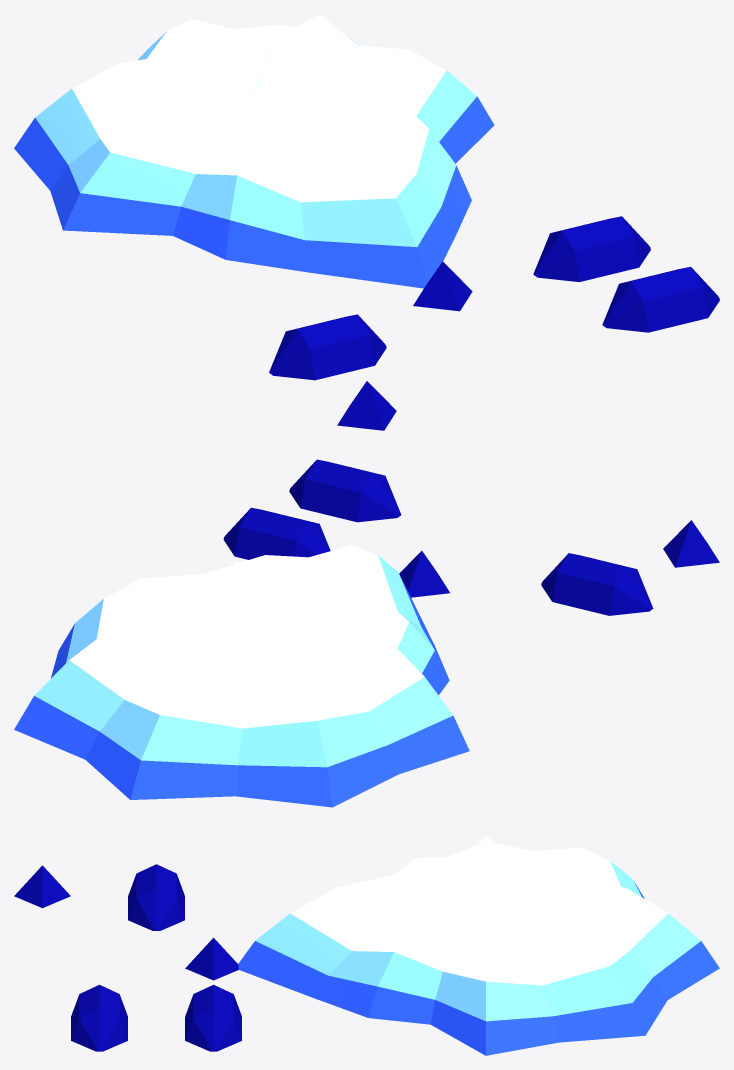
Rendered from shot_ice_146.glb.
3 renders of one model, top to bottom at view 1: azimuth 30°, elevation 25°; view 2: azimuth 150°, elevation 25°; view 3: azimuth 270°, elevation 25°, orthographic. The views are drawn at different scales.
Visible parts, largest first — view 1: shot_ice_146_cap, shot_ice_146_trail; view 2: shot_ice_146_cap, shot_ice_146_trail; view 3: shot_ice_146_cap, shot_ice_146_trail.
Boxes of the visible parts, x1,y1,x2,y2 form: shot_ice_146_cap: (14, 14, 494, 288); shot_ice_146_trail: (269, 216, 719, 430); shot_ice_146_cap: (14, 545, 469, 807); shot_ice_146_trail: (223, 459, 719, 615); shot_ice_146_cap: (238, 836, 719, 1055); shot_ice_146_trail: (14, 864, 241, 1051).
Size of the model in its own units: 7.22 by 2.45 by 12.38.
